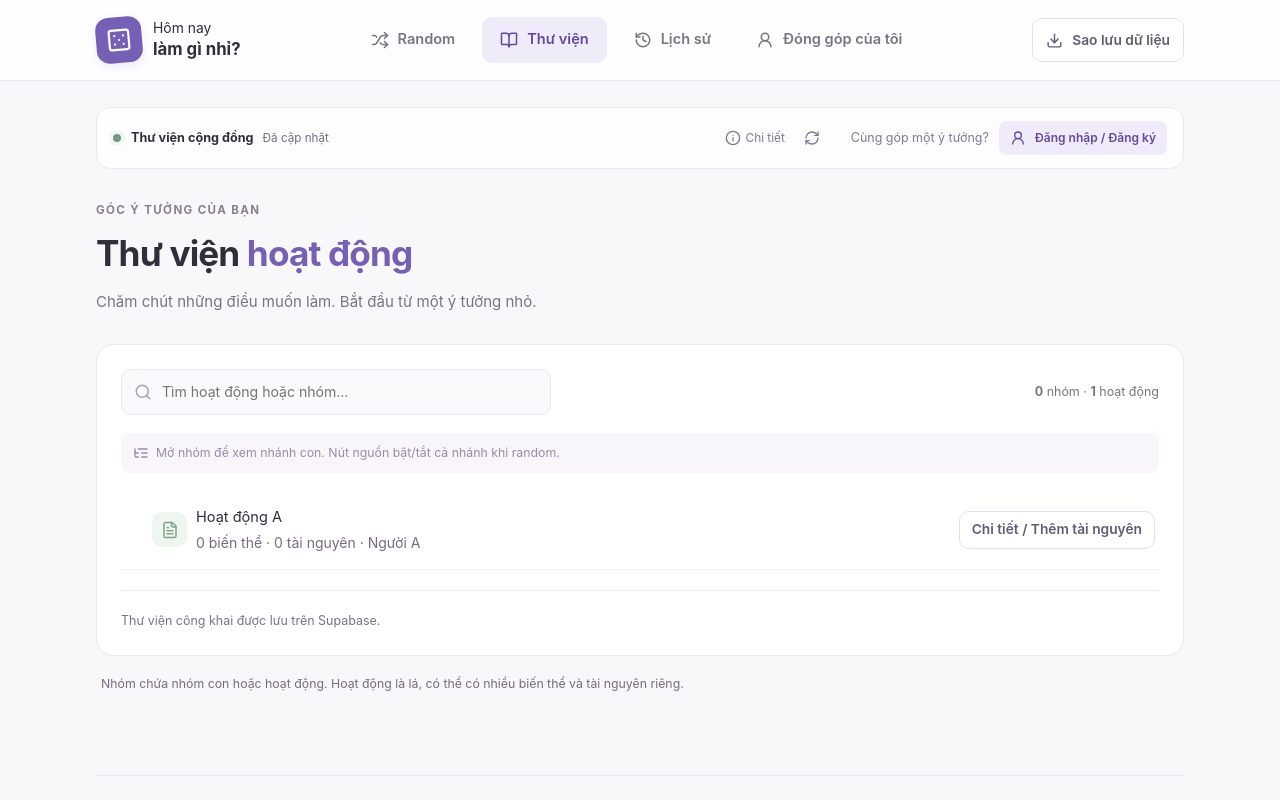
Test: UI cộng đồng › khách đọc chi tiết và tài nguyên nhưng không có nút ghi
This screenshot has width=1280, height=800.
Expected: the button named "Tải lại thư viện" is enabled, 797,120 -> 827,156
Click the button "Chi tiết / Thêm tài nguyên" at {"x": 1057, "y": 530}, box 959,511 -> 1155,549
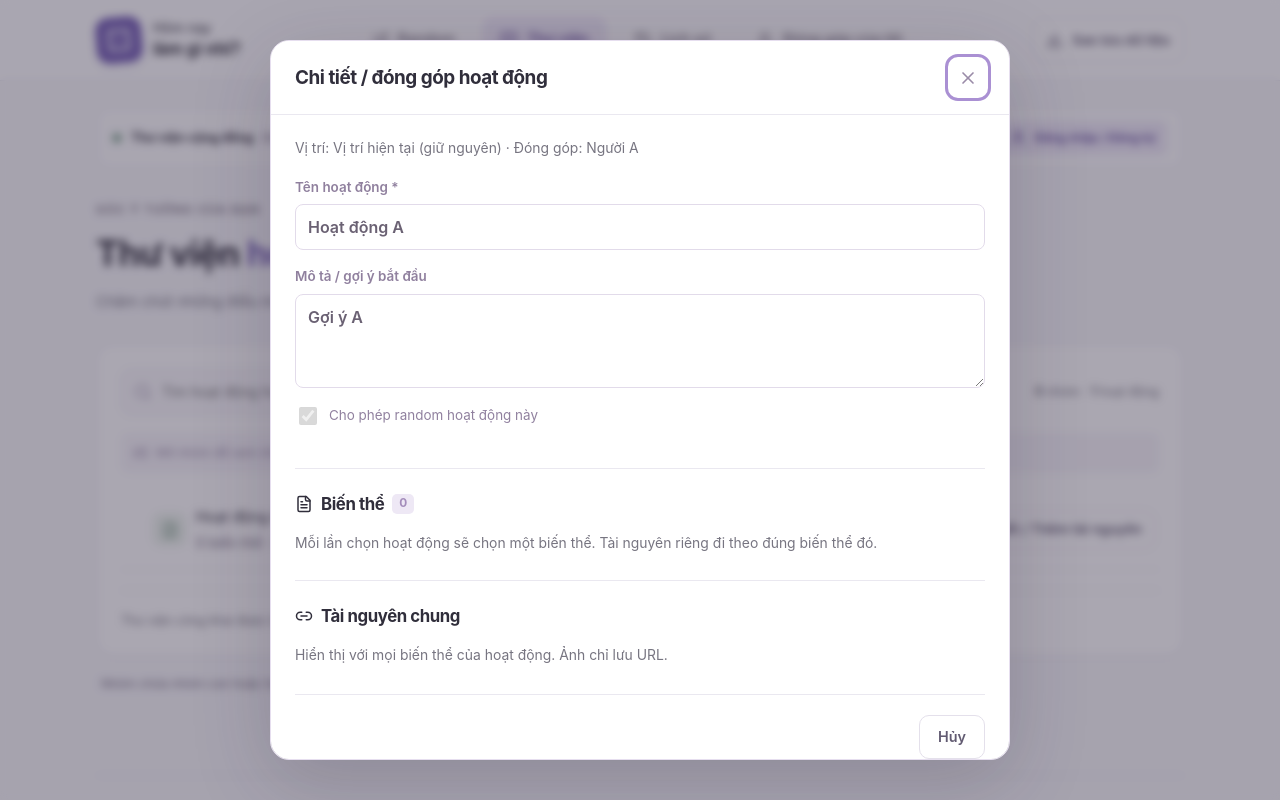
Expected: the element labelled "Tên hoạt động *" is disabled, 295,177 -> 985,444
